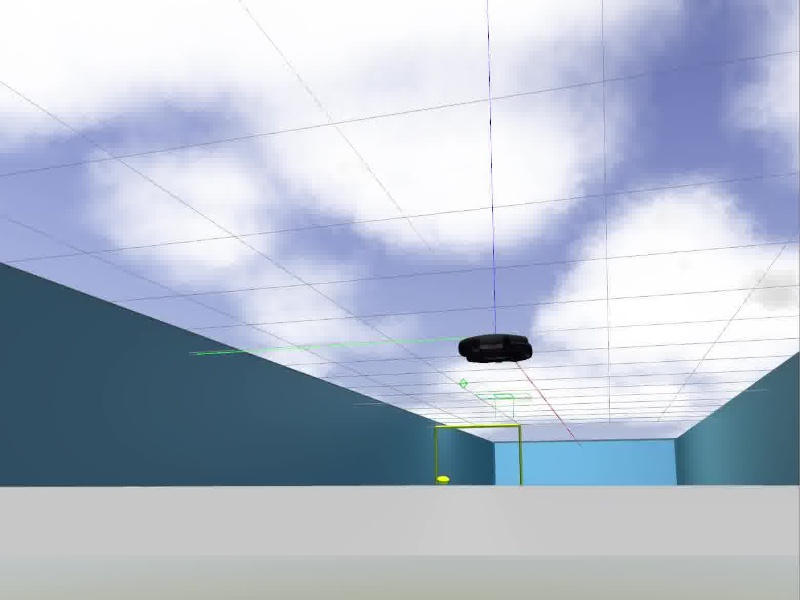gate: (430, 424, 523, 485)
